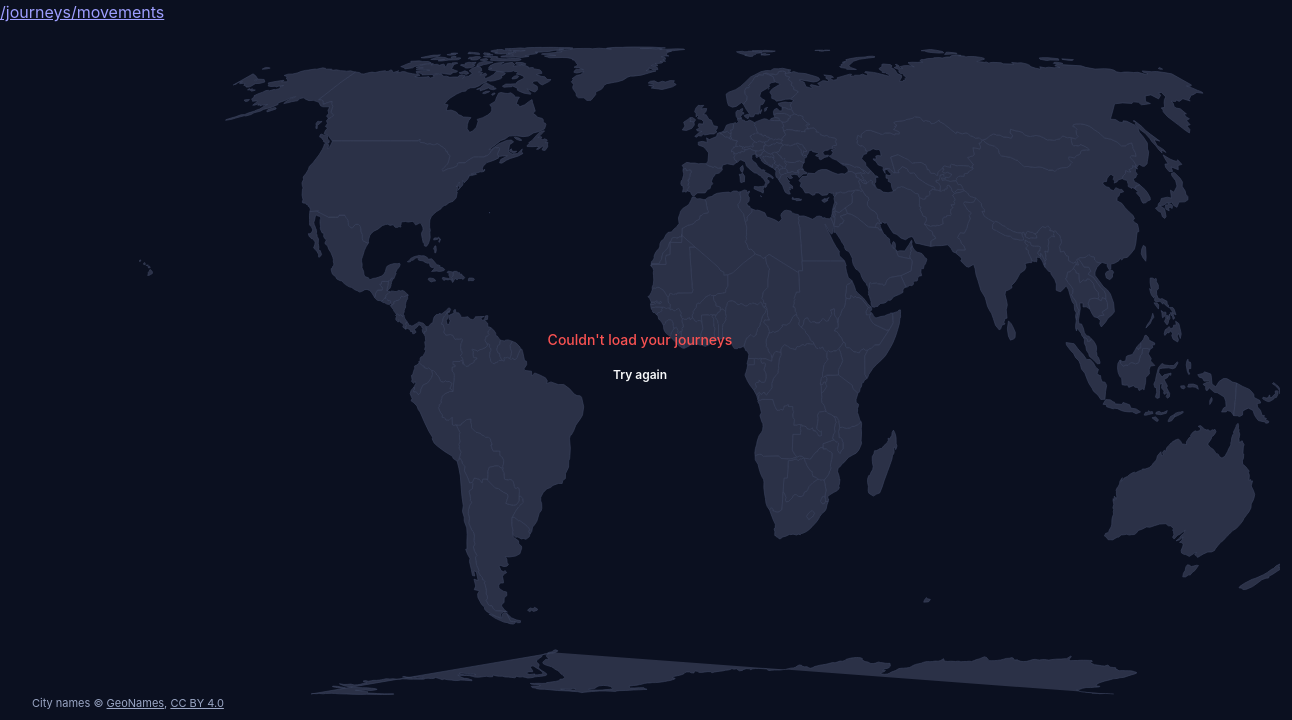
it: MovementsMapView › на ошибке показывает алерт, а «Try again» перезагружает маршруты
The width and height of the screenshot is (1292, 720).
Expected: the message shows "Couldn't load your journeys", 548,331 -> 732,348
Click the button "Try again" at (640, 375), box 598,360 -> 682,390
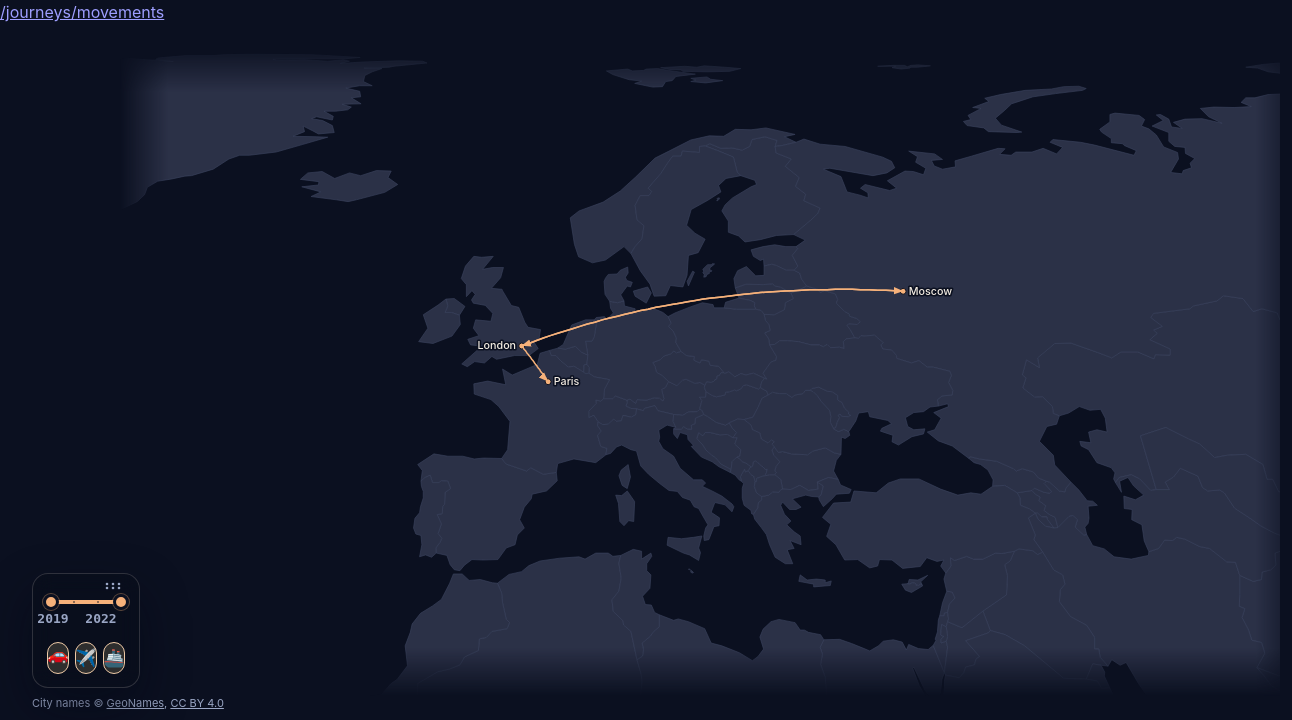
Result: the message "Couldn't load your journeys Try again" is gone
